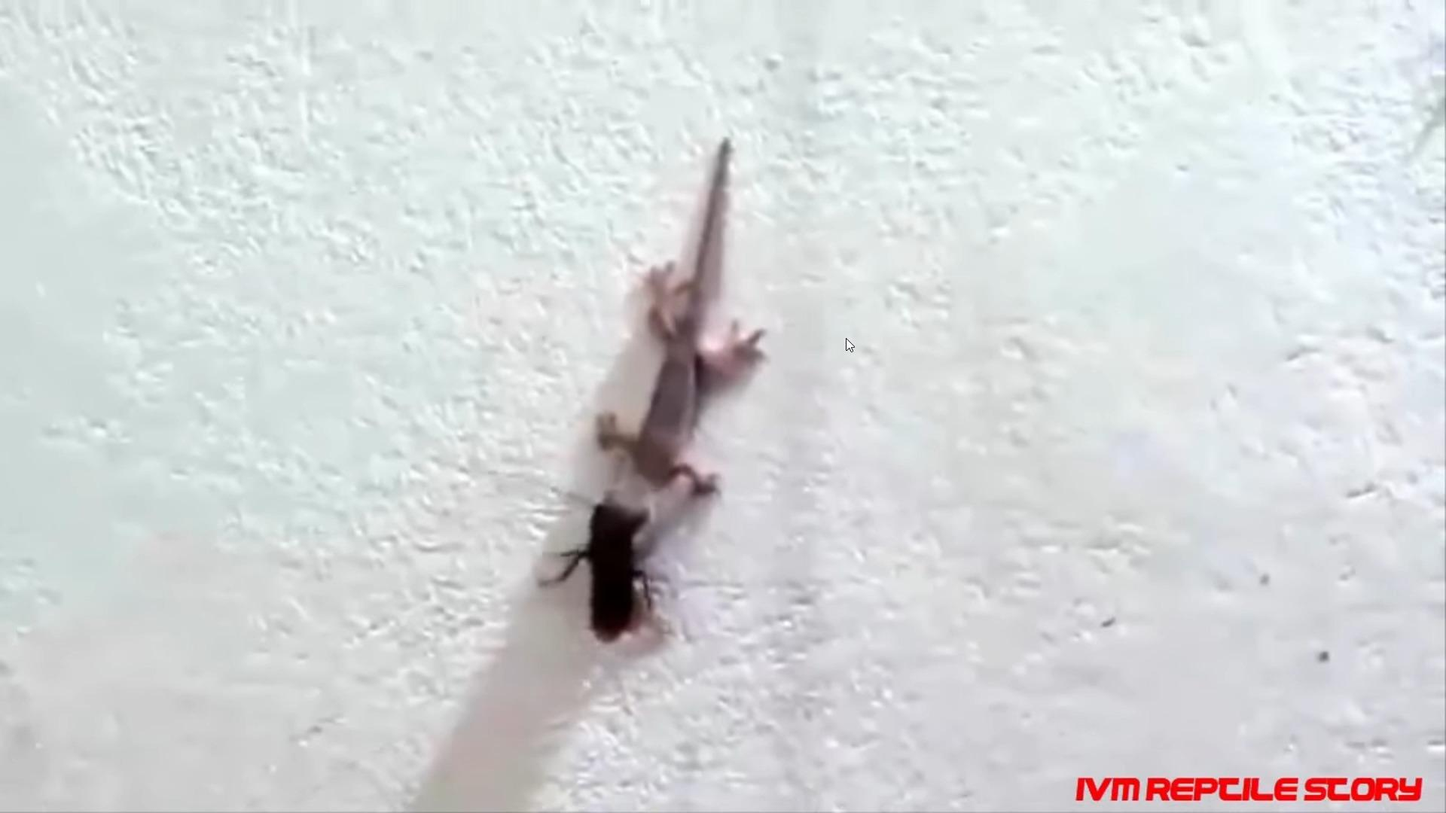cockroach: (573, 508, 653, 641)
lizard: (586, 171, 757, 521)
